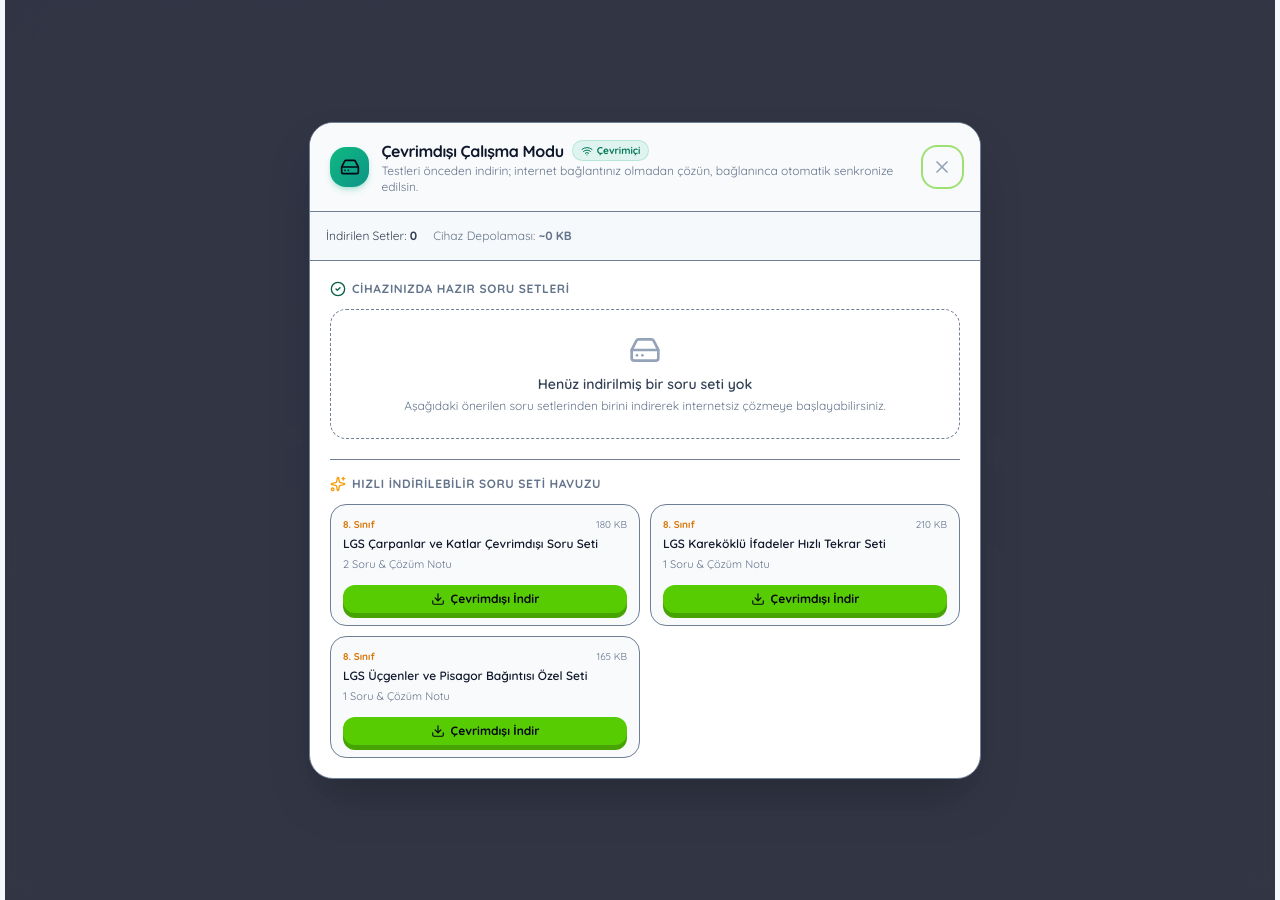
OfflineStudyPackageModal Component › allows downloading a preset package to device storage and clearing with two-step confirmation
Click the button "Çevrimdışı İndir" below "180" at (485, 598), box x1=343 y1=584 x2=627 y2=612
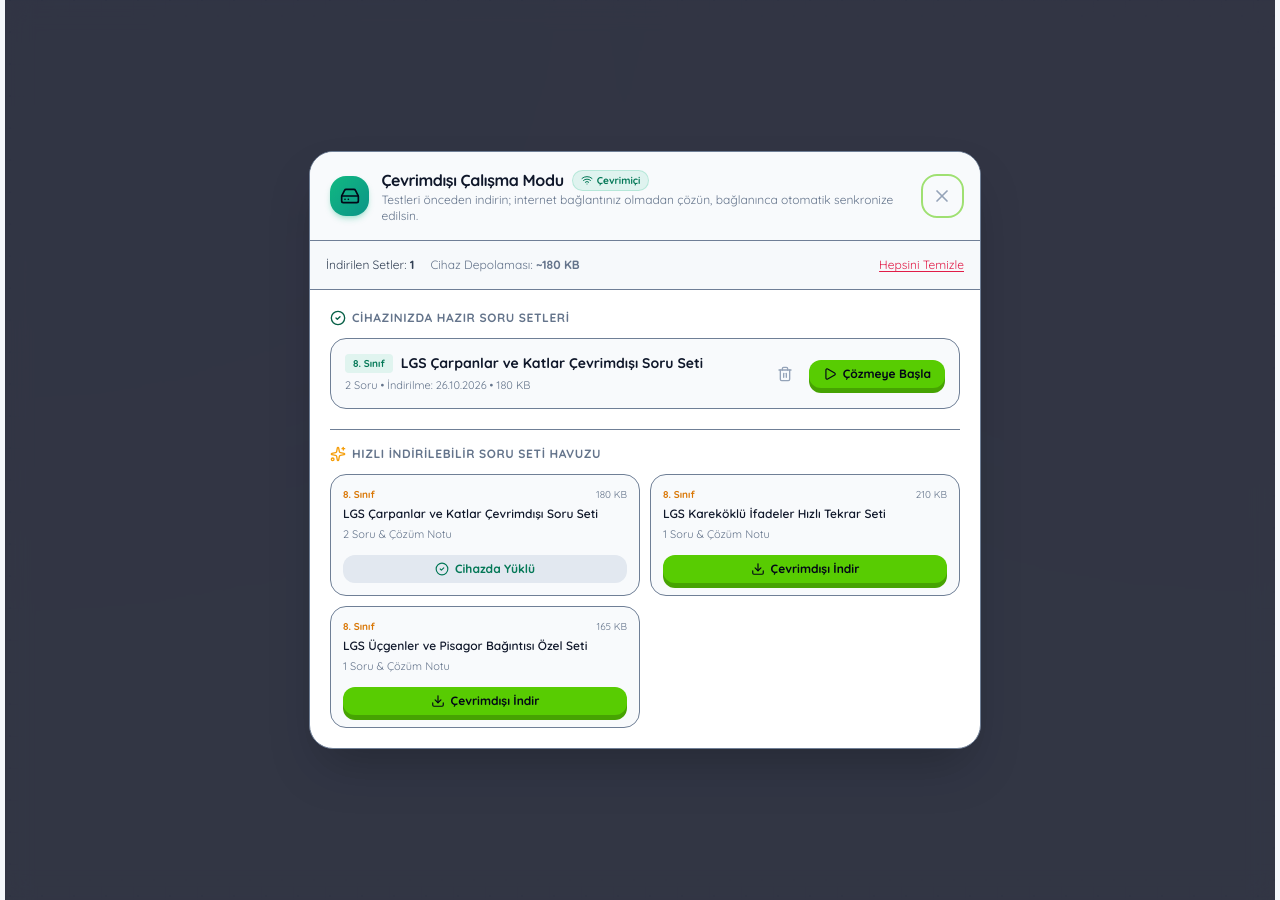
Expected: the heading "Cihazınızda Hazır Soru Setleri" is shown, x1=330 y1=310 x2=570 y2=326
Expected: the text "Çözmeye Başla" is shown, x1=843 y1=366 x2=931 y2=382
Two-step clear all
Click the button "Hepsini Temizle" at (922, 265), box x1=879 y1=257 x2=964 y2=273
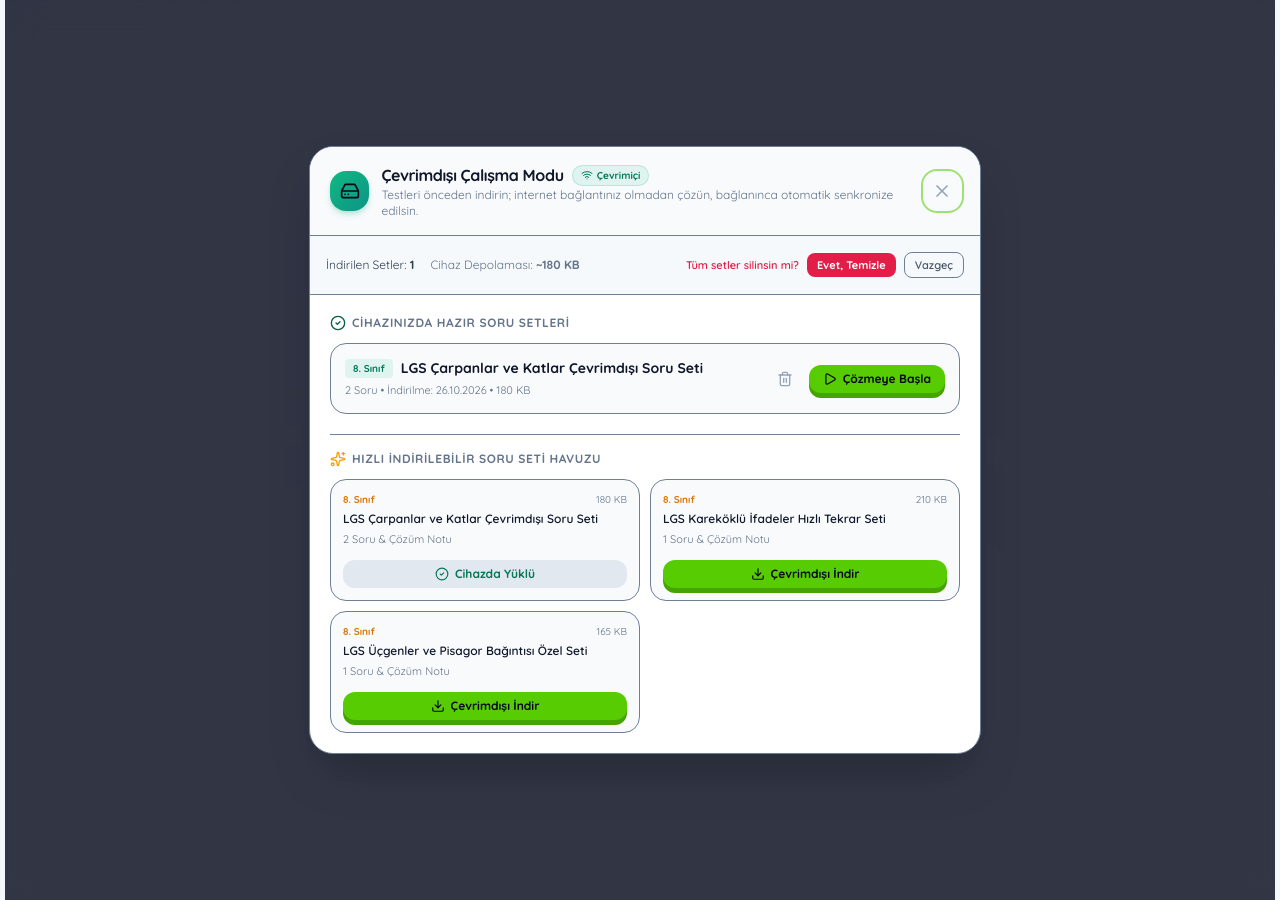
Expected: the text "Tüm setler silinsin mi?" is shown, x1=686 y1=257 x2=799 y2=273
Click the button "Evet, Temizle" at (851, 265), box x1=807 y1=253 x2=896 y2=277
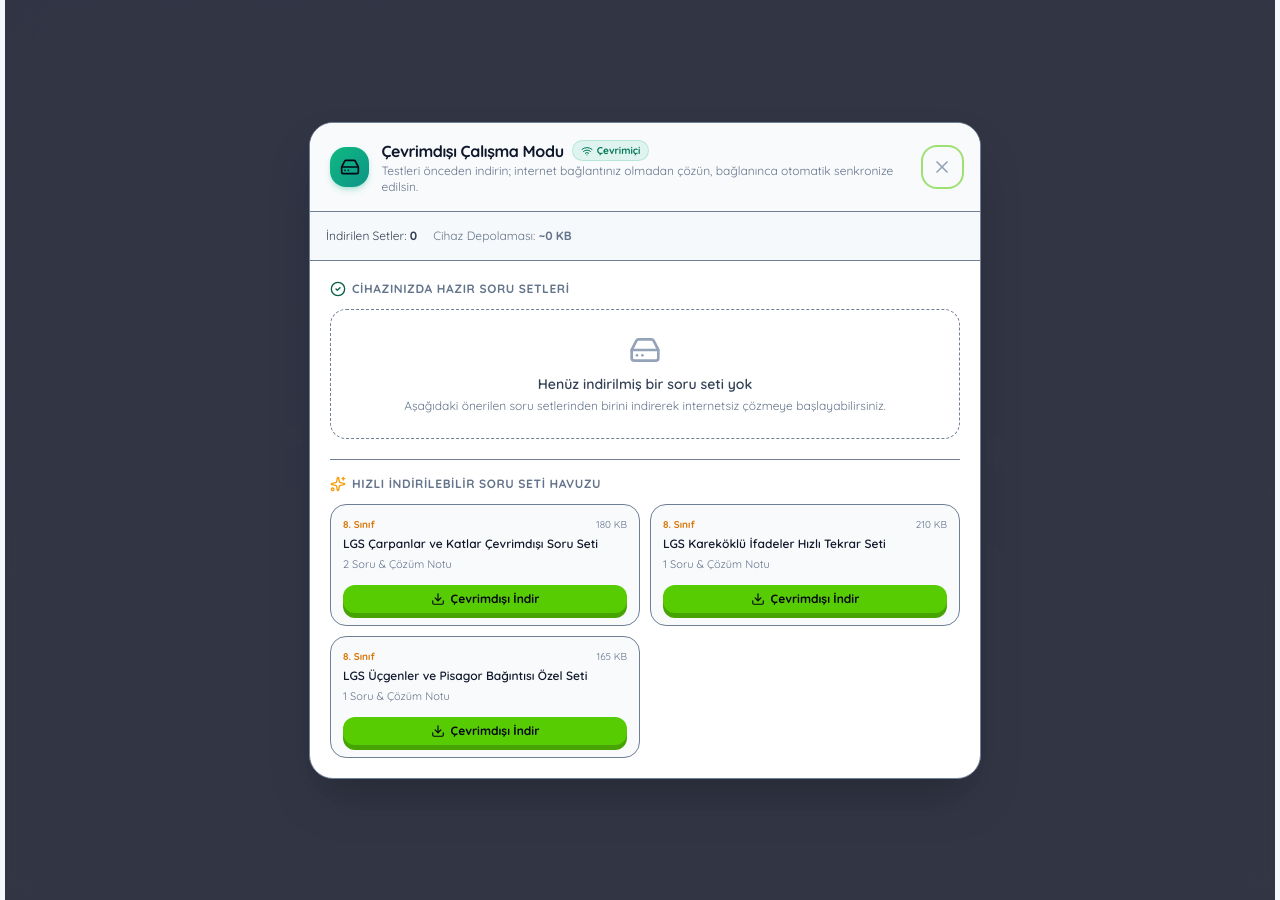
Expected: the text "Henüz indirilmiş bir soru seti yok" is shown, x1=538 y1=374 x2=752 y2=392
